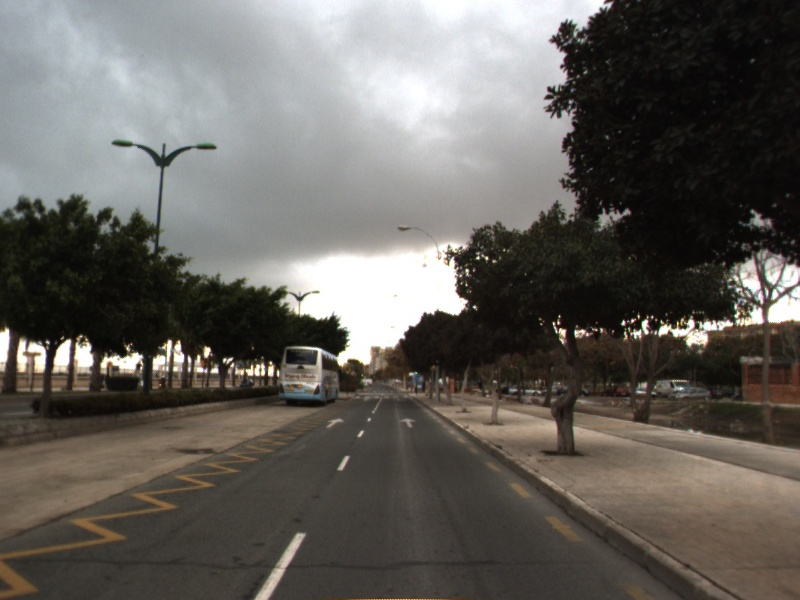STRAIGHT: (324, 416, 346, 430), (397, 416, 419, 429)
